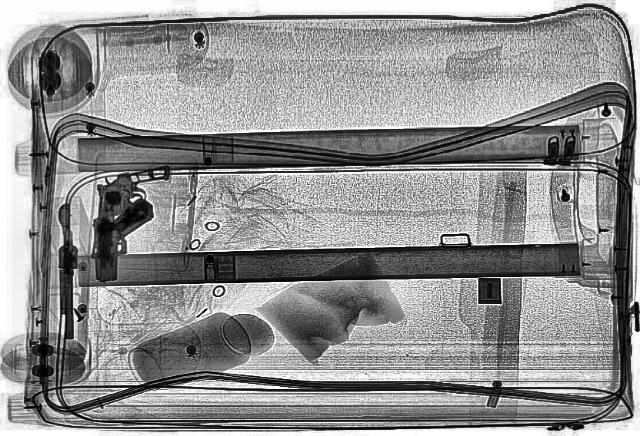Gun: (76, 160, 174, 270), (88, 197, 156, 281), (52, 198, 86, 346)
